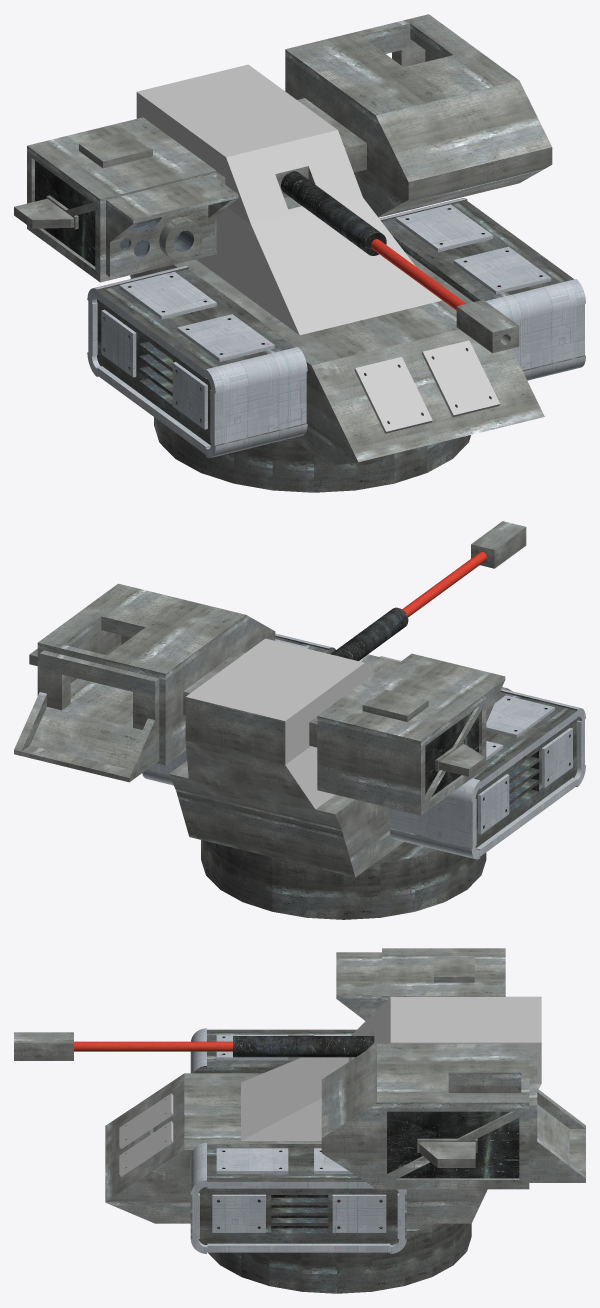
The model's file is 布雷器[武器]贴图版.fbx.
3 renders of one model, top to bottom at view 1: azimuth 30°, elevation 25°; view 2: azimuth 150°, elevation 25°; view 3: azimuth 270°, elevation 25°, orthographic. The views are drawn at different scales.
Visible parts, largest first — view 1: Group3, Group2, Group1, Group4; view 2: Group3, Group2, Group1, Group4; view 3: Group3, Group2, Group4, Group1.
Part boxes in pixels (<box>): Group3: <box>87,64,585,465</box>; Group2: <box>285,14,552,217</box>; Group1: <box>14,117,238,282</box>; Group4: <box>154,417,470,492</box>; Group3: <box>142,521,585,877</box>; Group2: <box>14,583,275,782</box>; Group1: <box>317,653,505,815</box>; Group4: <box>201,840,486,919</box>; Group3: <box>14,996,541,1253</box>; Group2: <box>321,1043,585,1189</box>; Group4: <box>208,1223,471,1293</box>; Group1: <box>336,948,505,1020</box>.
Size of the model in its own units: 2.94 by 1.55 by 3.52.
